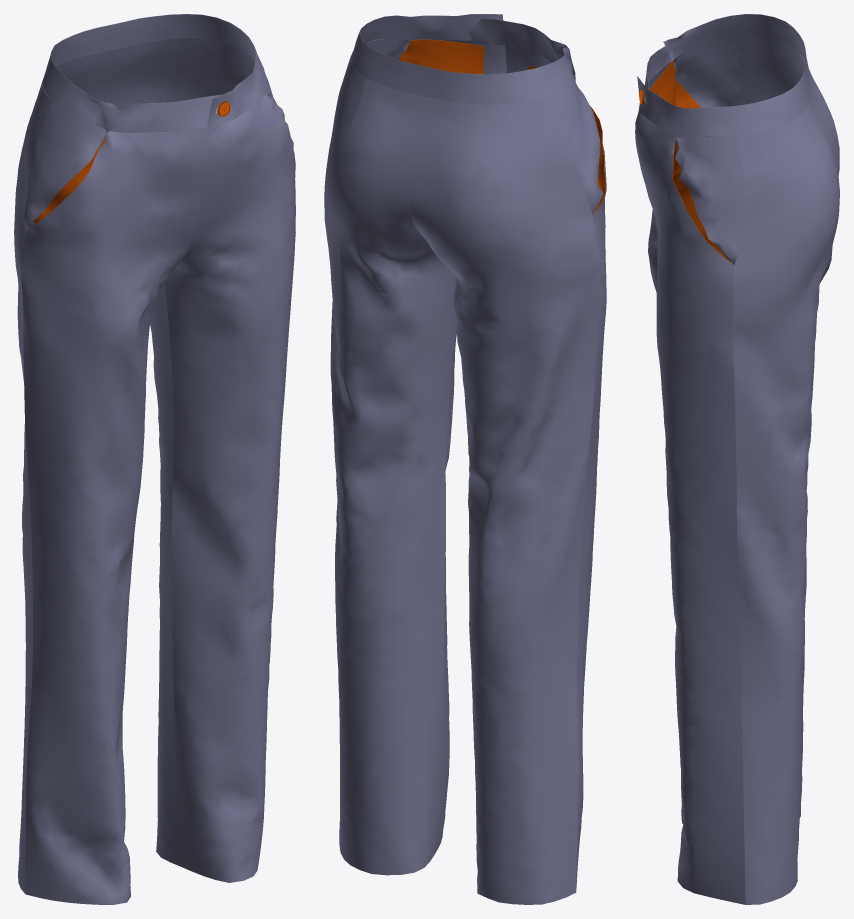
The picture shows the model from 3 angles, left to right: view 1: azimuth 30°, elevation 25°; view 2: azimuth 150°, elevation 25°; view 3: azimuth 270°, elevation 25°; orthographic projection. The views are drawn at different scales.
Parts seen in each view (by area): view 1: Pattern2D_766542, Pattern2D_766544, AMFI BAP_2, OPC00WAB4, AMFI BAP_3, Pattern2D_766543, Pattern2D_766548; view 2: AMFI BAP_3, AMFI BAP_2, OPC00WAB4, Pattern2D_766542, Pattern2D_766543, Pattern2D_766544, Pattern2D_766546, FLF_1, Pattern2D_766545; view 3: AMFI BAP_2, Pattern2D_766544, OPC00WAB4, Pattern2D_766545, AMFI BAP_3, Pattern2D_766543, Pattern2D_766548, Pattern2D_766546, Pattern2D_766542.
Part boxes in pixels (x1,y1,x2,y2): Pattern2D_766542: (21,127,208,904); Pattern2D_766544: (165,93,295,882); AMFI BAP_2: (100,38,254,865); OPC00WAB4: (42,14,265,132); AMFI BAP_3: (14,50,112,893); Pattern2D_766543: (23,102,106,229); Pattern2D_766548: (33,138,105,223); AMFI BAP_3: (410,91,600,904); AMFI BAP_2: (324,52,456,875); OPC00WAB4: (351,14,575,104); Pattern2D_766542: (505,45,606,887); Pattern2D_766543: (562,73,603,214); Pattern2D_766544: (417,39,473,854); Pattern2D_766546: (398,39,484,73); FLF_1: (475,44,506,74); Pattern2D_766545: (366,38,410,59); AMFI BAP_2: (732,86,839,904); Pattern2D_766544: (635,107,745,904); OPC00WAB4: (637,14,809,137); Pattern2D_766545: (675,136,744,264); AMFI BAP_3: (734,36,839,817); Pattern2D_766543: (673,37,740,107); Pattern2D_766548: (649,61,701,108); Pattern2D_766546: (672,140,726,259); Pattern2D_766542: (648,60,682,823).
Bounding box in the file's own units: 38.85 × 116 × 26.97.
